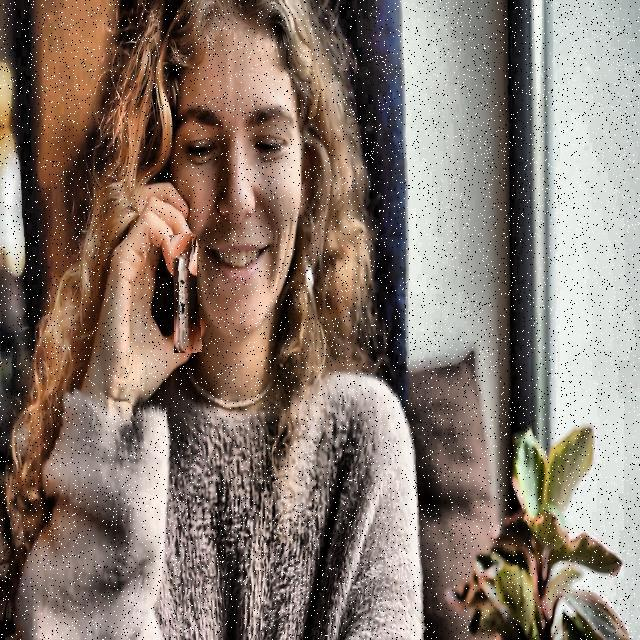Phone: (172, 234, 200, 353)
